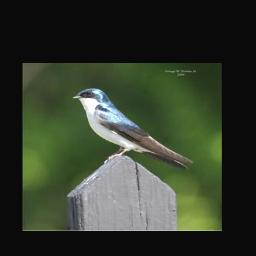Swallow: (72, 88, 194, 170)
